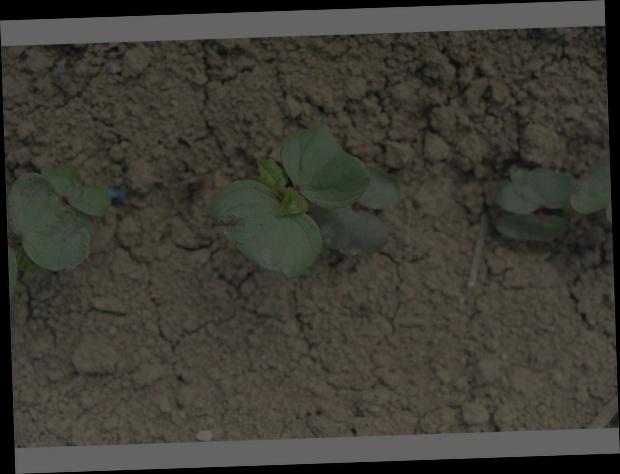cotton: (209, 123, 401, 278), (6, 164, 110, 290), (495, 152, 611, 243)
